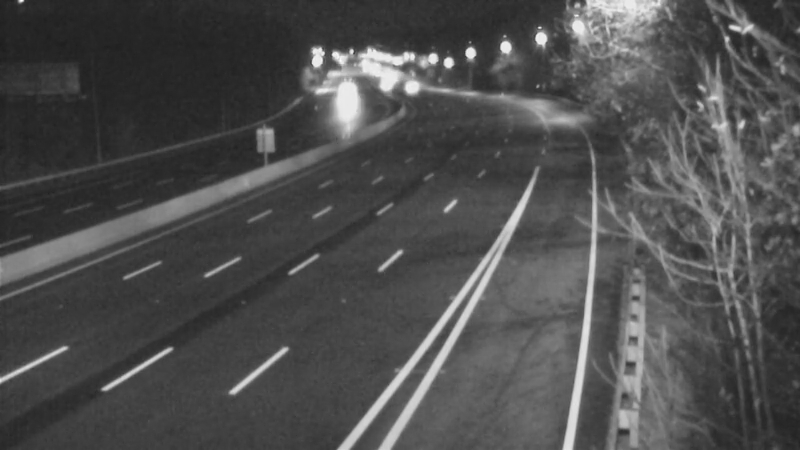vehicle: (387, 62, 437, 112), (320, 72, 370, 122)
